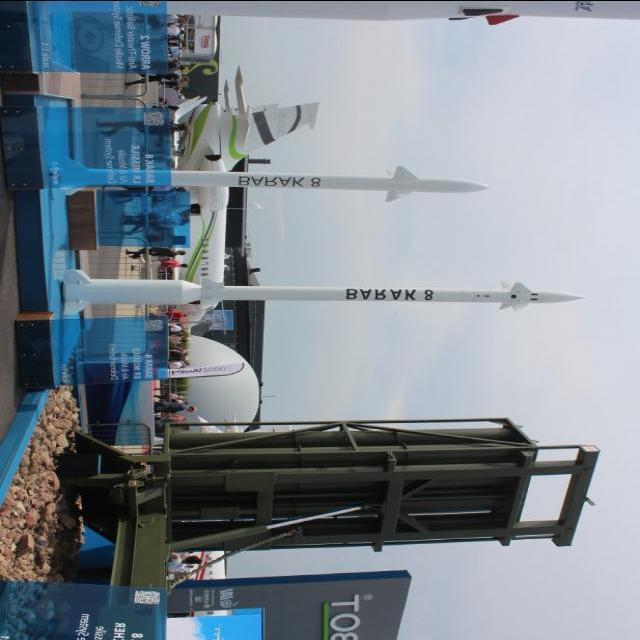missile: (62, 261, 586, 325), (62, 155, 490, 203)
